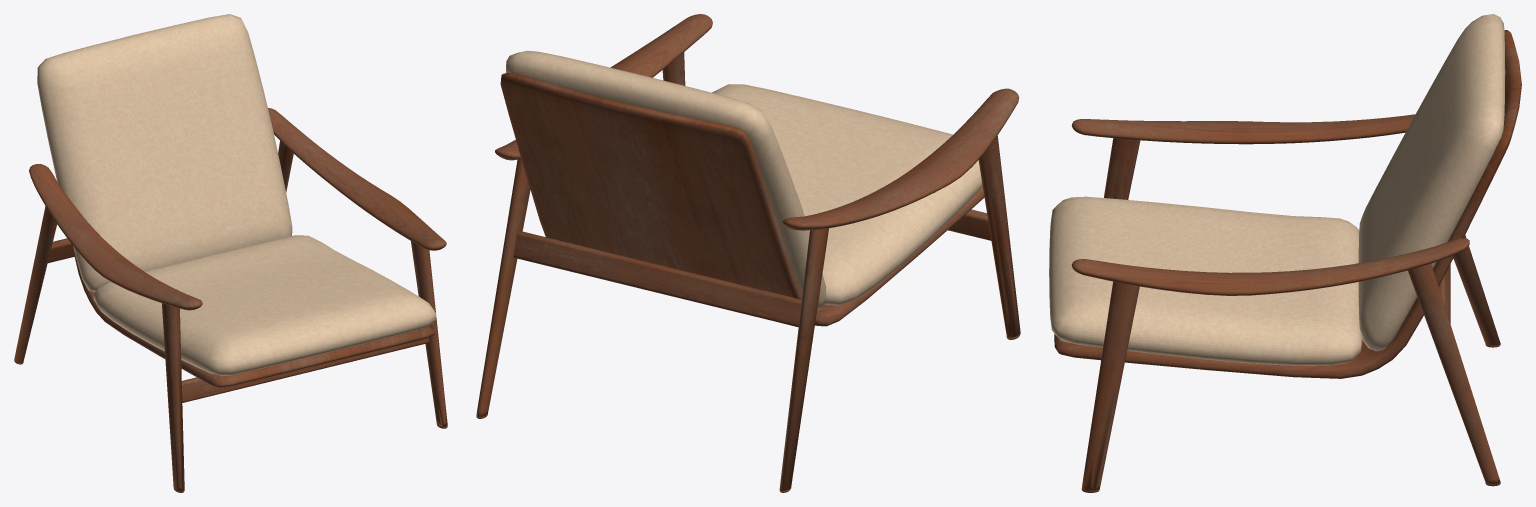
File: waiting_room_armchair.glb
The picture shows the model from 3 angles, left to right: view 1: azimuth 30°, elevation 25°; view 2: azimuth 150°, elevation 25°; view 3: azimuth 270°, elevation 25°; orthographic projection. The views are drawn at different scales.
Parts seen in each view (by area): view 1: Waiting Room Armchair; view 2: Waiting Room Armchair; view 3: Waiting Room Armchair.
Boxes of the visible parts, x1,y1,x2,y2 form: Waiting Room Armchair: (14, 14, 447, 492); Waiting Room Armchair: (476, 14, 1020, 492); Waiting Room Armchair: (1049, 14, 1521, 492).
Bounding box in the file's own units: 0.8143 × 0.7795 × 0.9494.
1 material, 1 textured.
